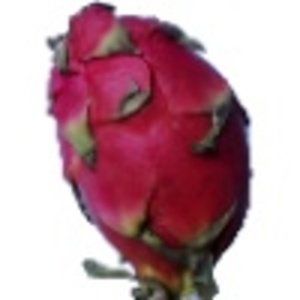pitaia: (45, 1, 254, 300)
